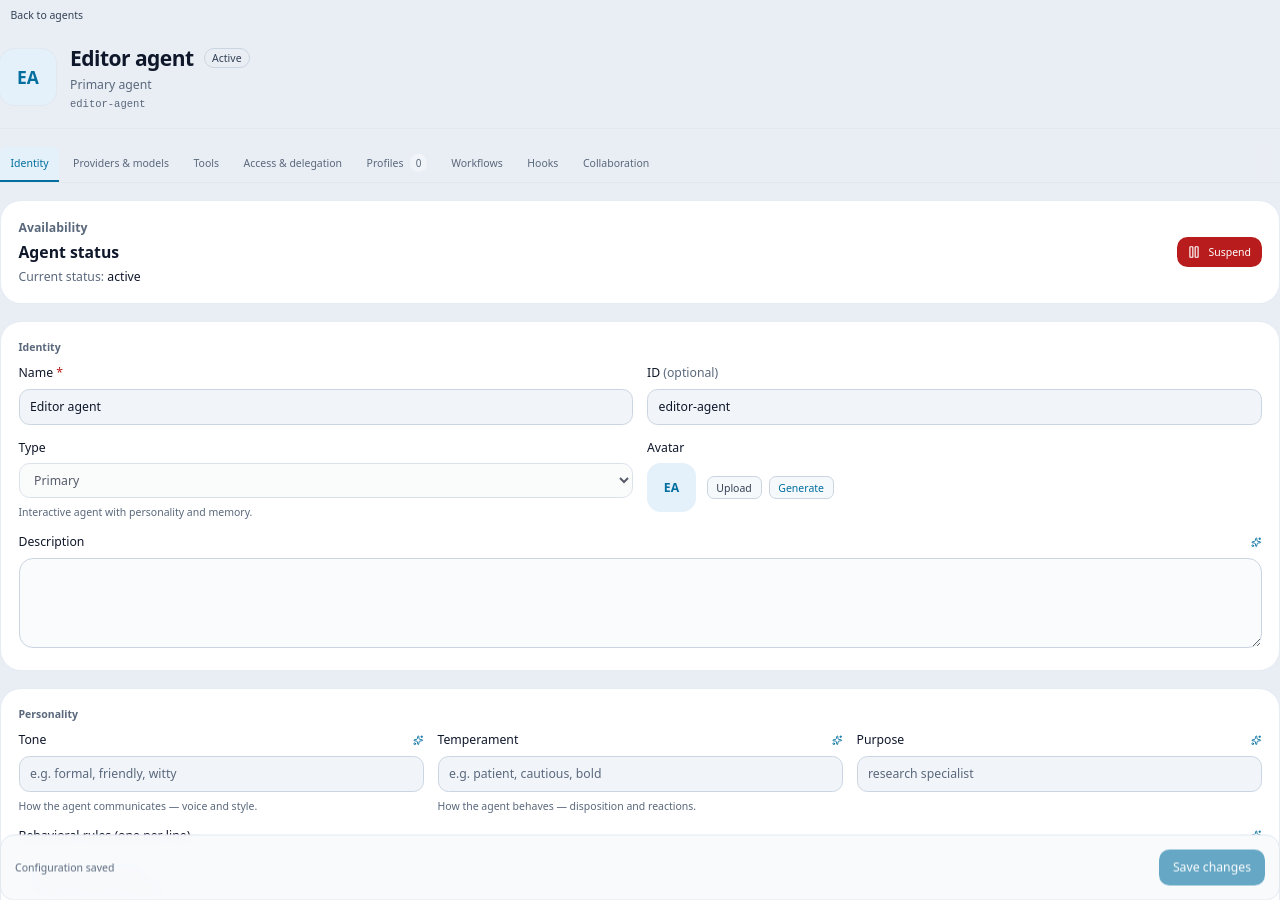
Scenario: agent detail tabs and save boundaries › keeps configuration drafts through immediate status changes and saves without remounting
The image size is (1280, 900).
Check: the button "Save changes" is disabled, box [1159,849,1265,885]
Replace the text in the field with placeholder "Research Assistant" with "Unsaved identity" at (326, 406), box [18,388,633,424]
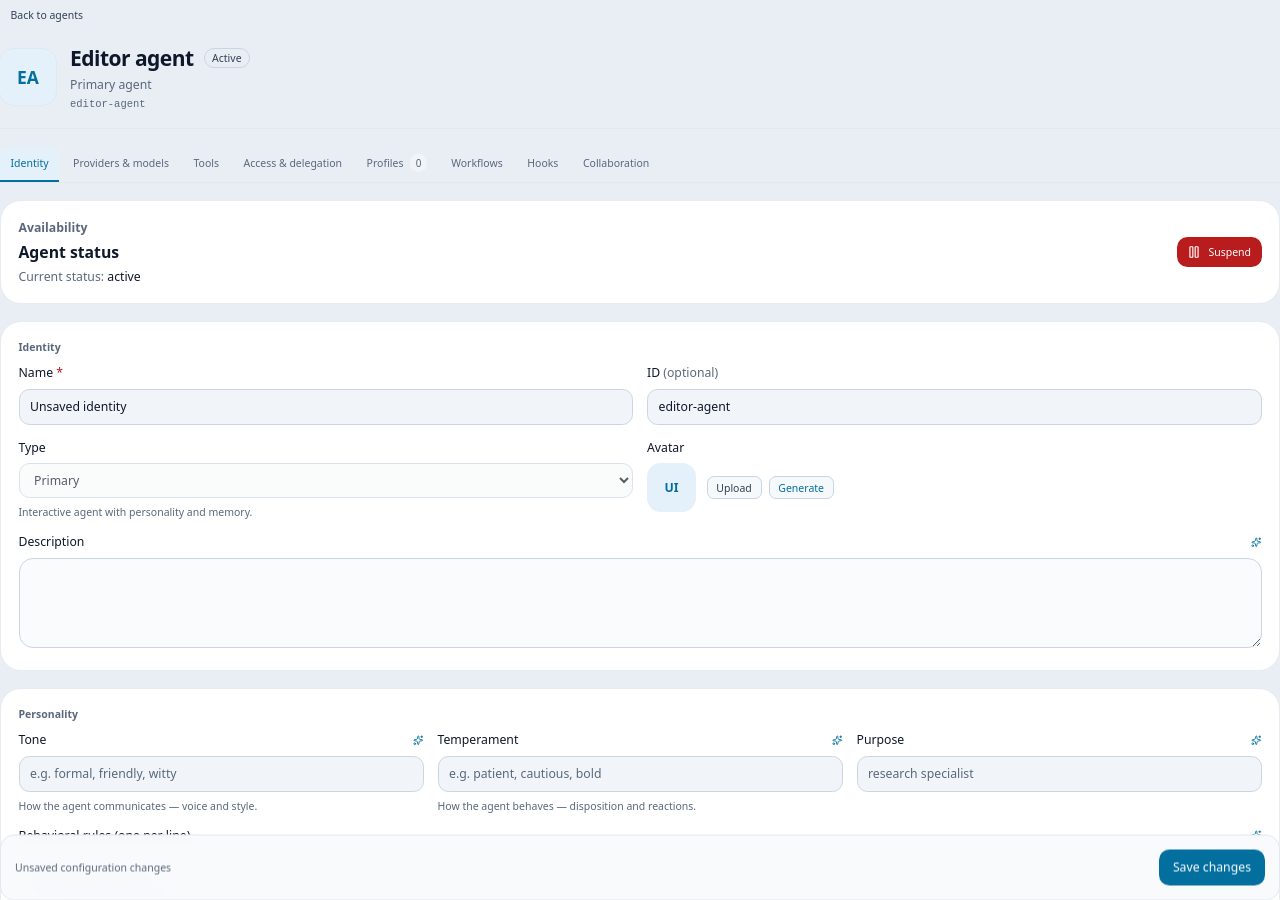
Click the button "Suspend" at (1219, 252), box [1177,237,1262,267]
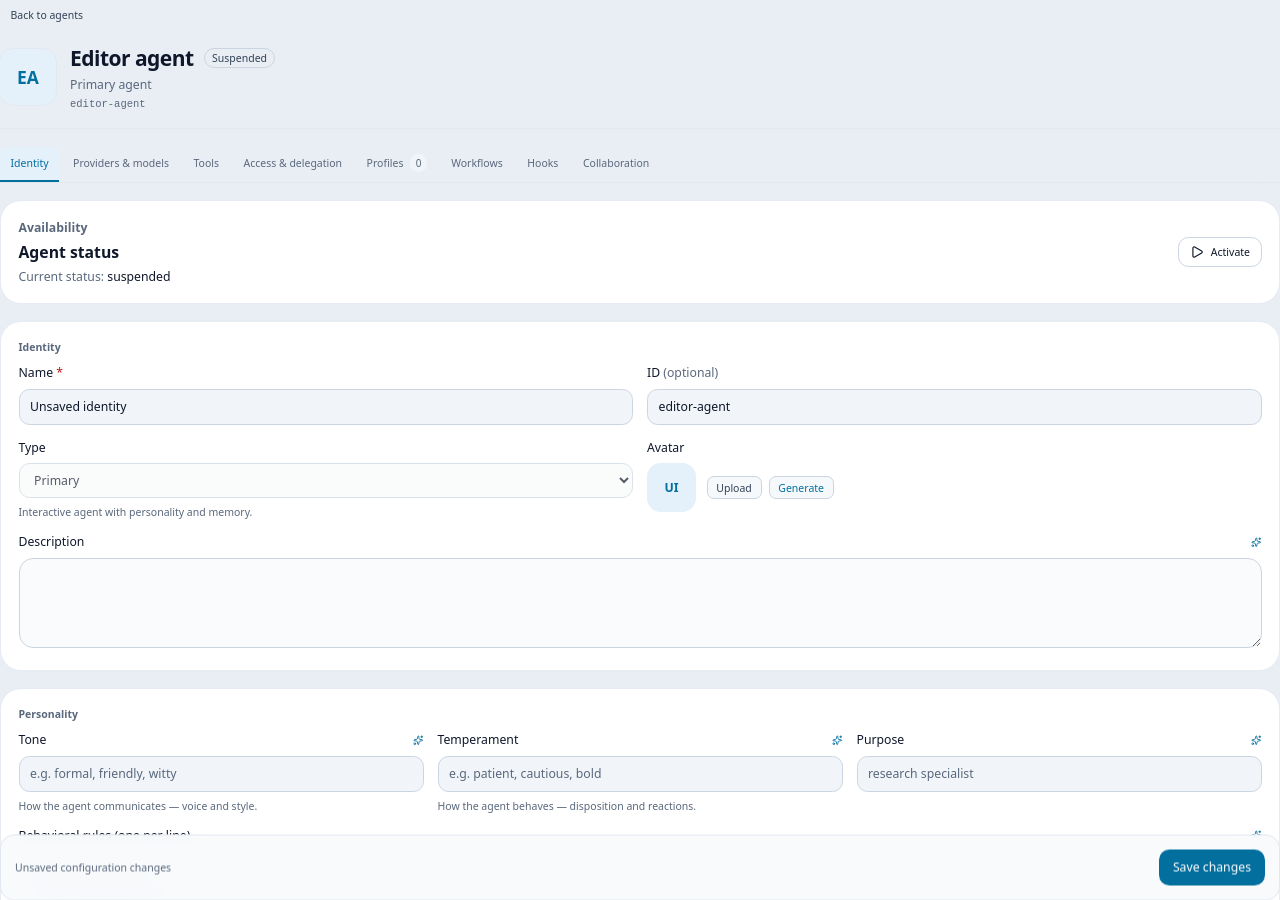
Check: the button "Activate" is shown, box [1178,237,1262,267]
Click the tab "Hooks" at (543, 164), box [517,146,569,182]
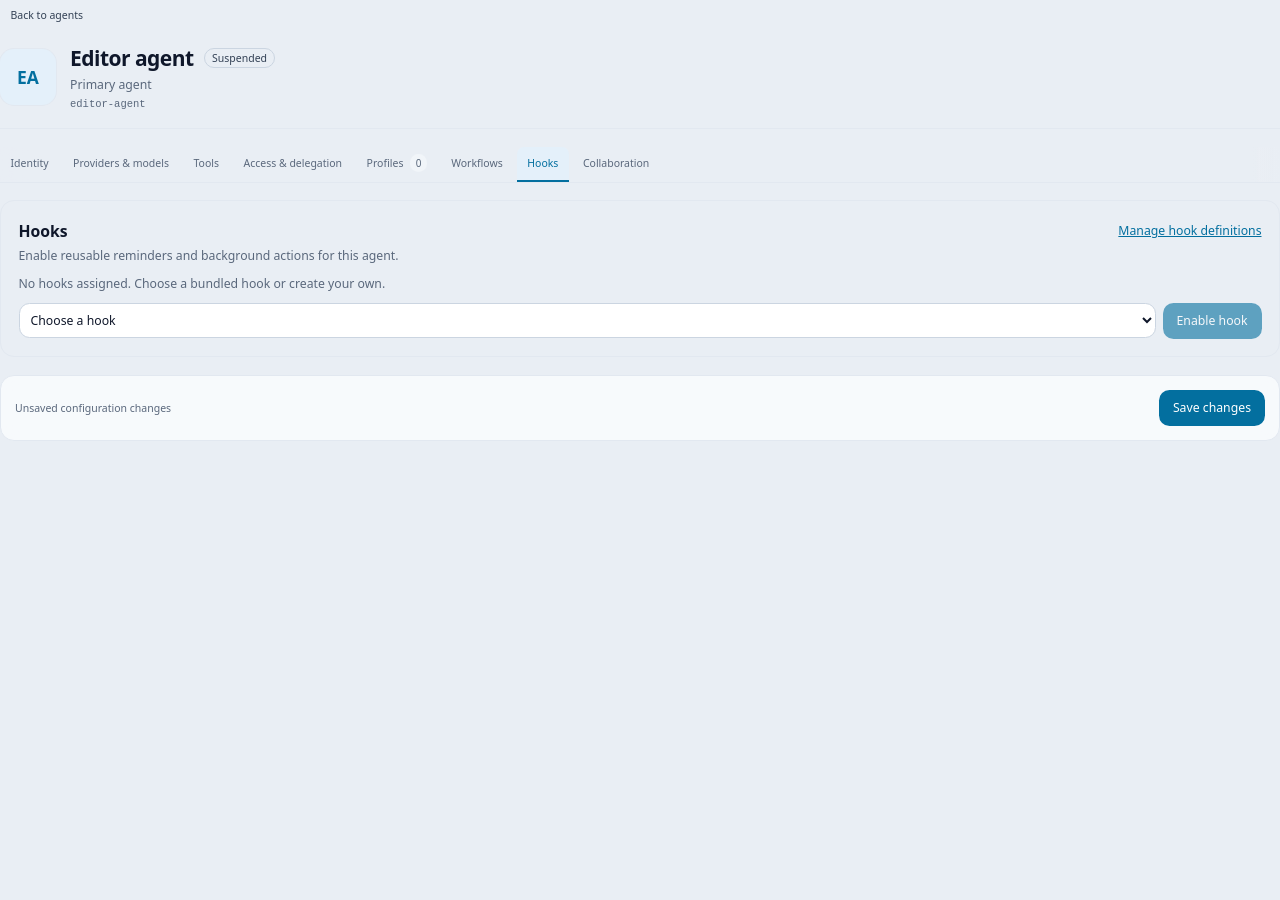
Check: the text "No hooks assigned. Choose a bundled hook or create your own." is shown, box [18,274,385,292]
Click the button "Save changes" at (1212, 408), box [1159,390,1265,426]
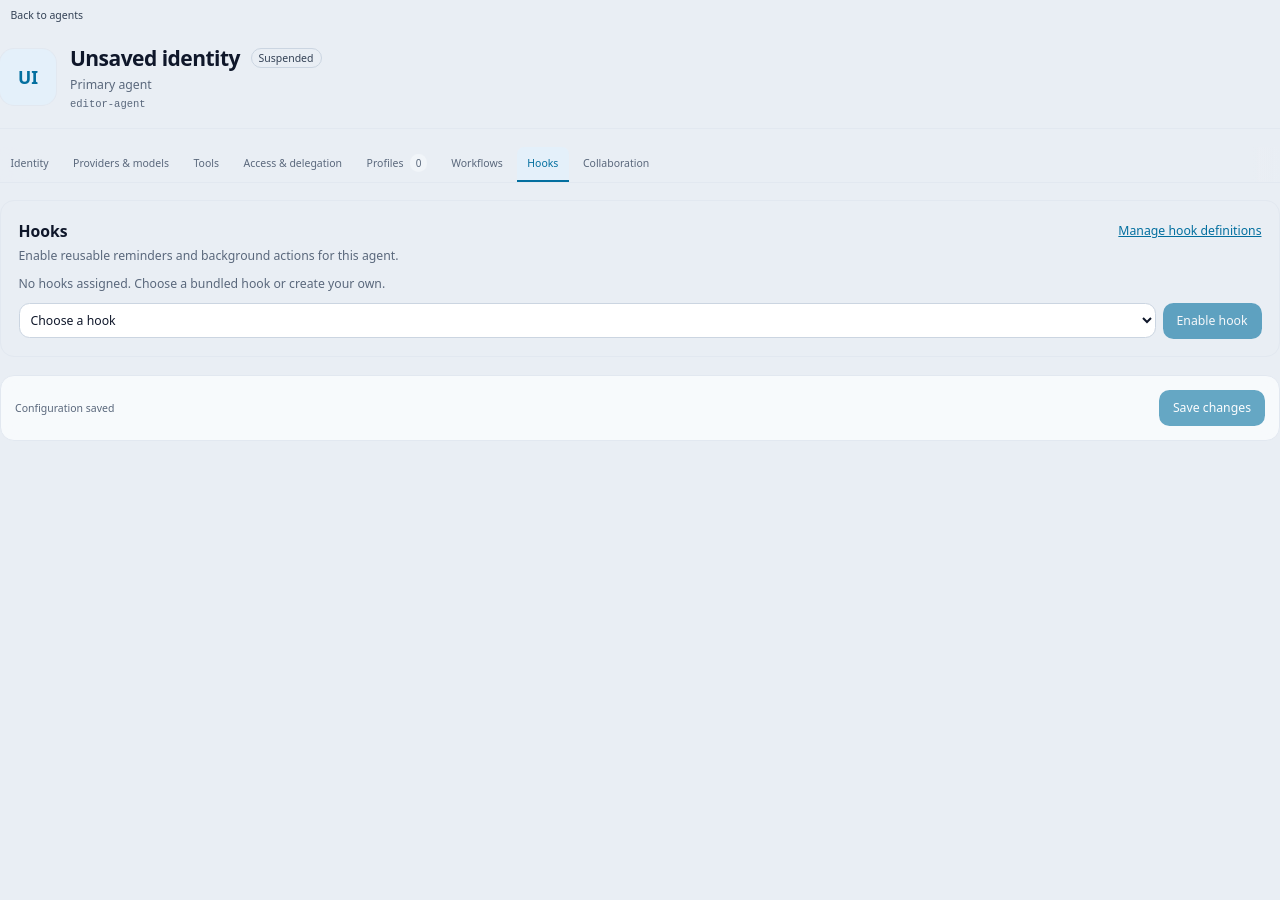
Check: the button "Save changes" is disabled, box [1159,390,1265,426]
